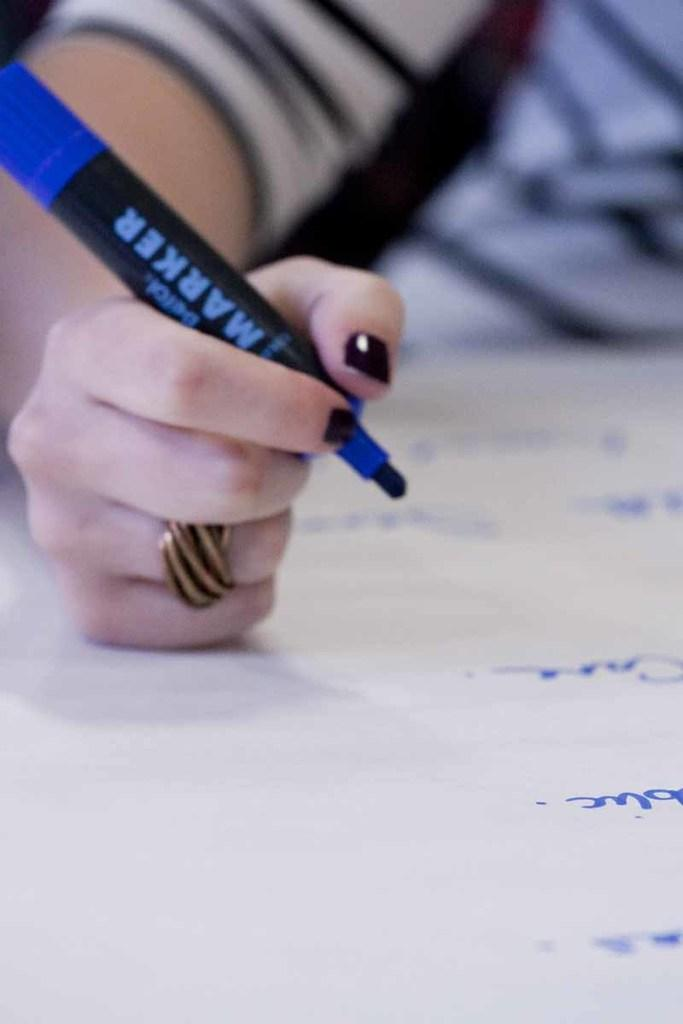pen: (0, 55, 418, 503)
